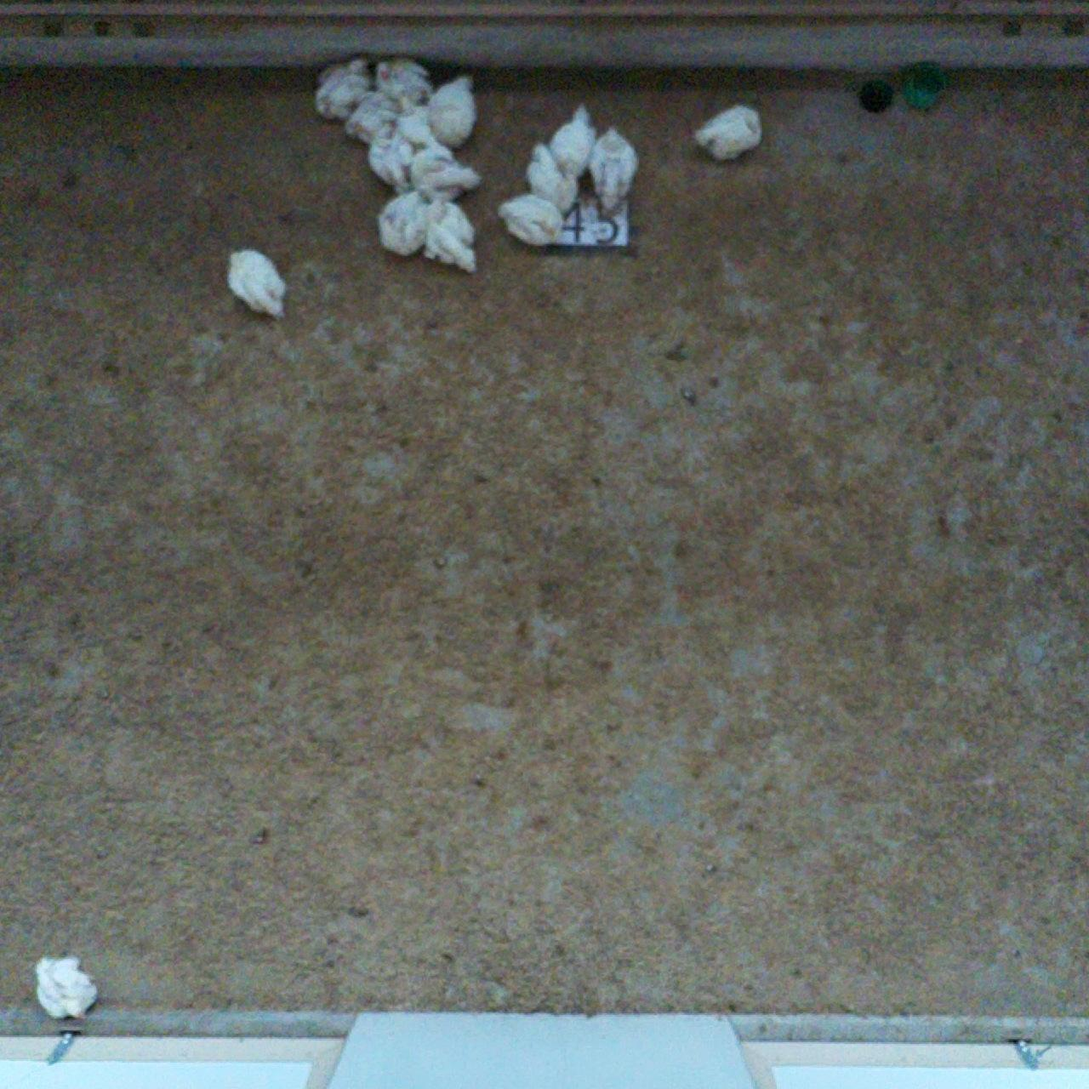chicken: (225, 249, 294, 320), (34, 956, 100, 1019), (589, 126, 639, 208), (693, 104, 763, 162), (409, 146, 480, 201), (315, 56, 372, 122), (546, 102, 596, 176), (426, 202, 476, 273), (527, 142, 578, 211), (498, 194, 563, 248), (378, 191, 431, 256), (428, 76, 476, 146), (368, 125, 418, 191), (375, 57, 432, 111), (345, 92, 402, 141)
